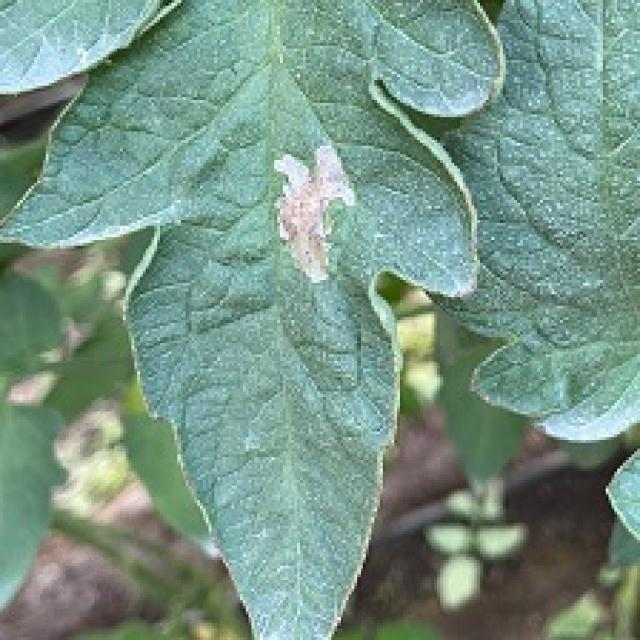Tuta absoluta: (274, 145, 355, 282)
